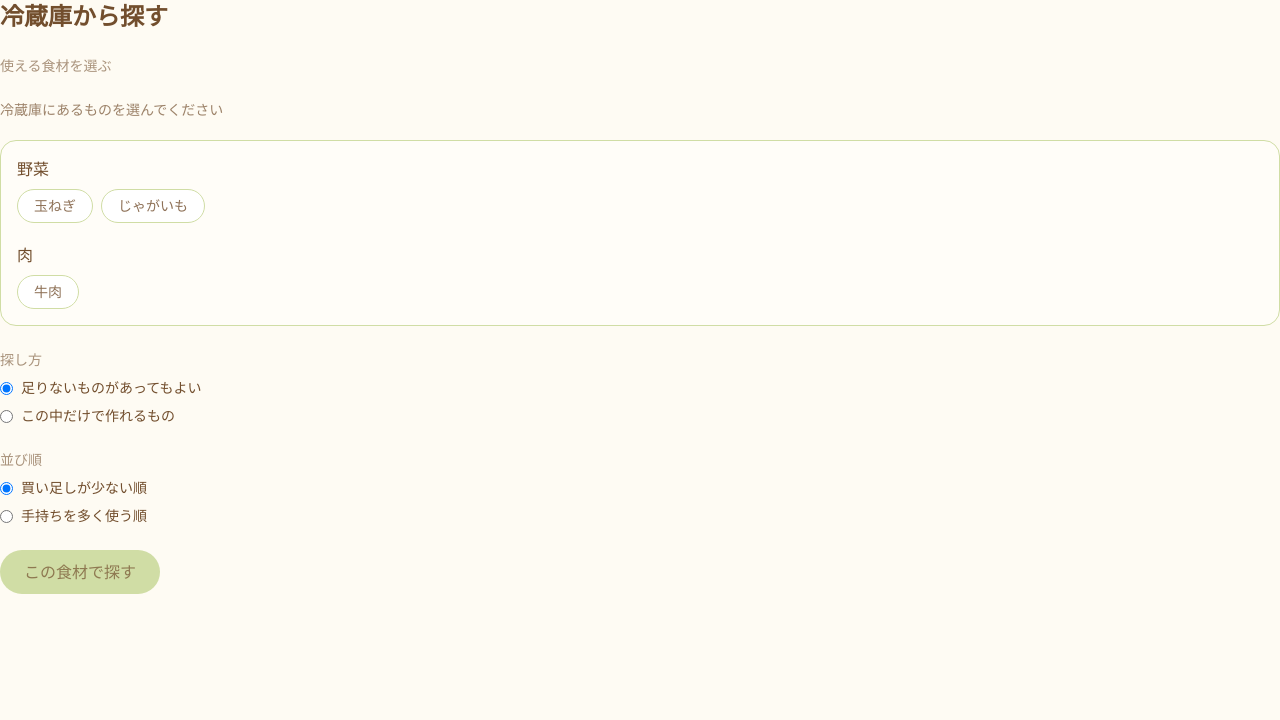
Scenario: 冷蔵庫から探す › 選んだ食材を送り、候補と不足を並べる
Click the checkbox labelled "玉ねぎ": [55, 206] box top-left (17, 189), bottom-right (93, 223)
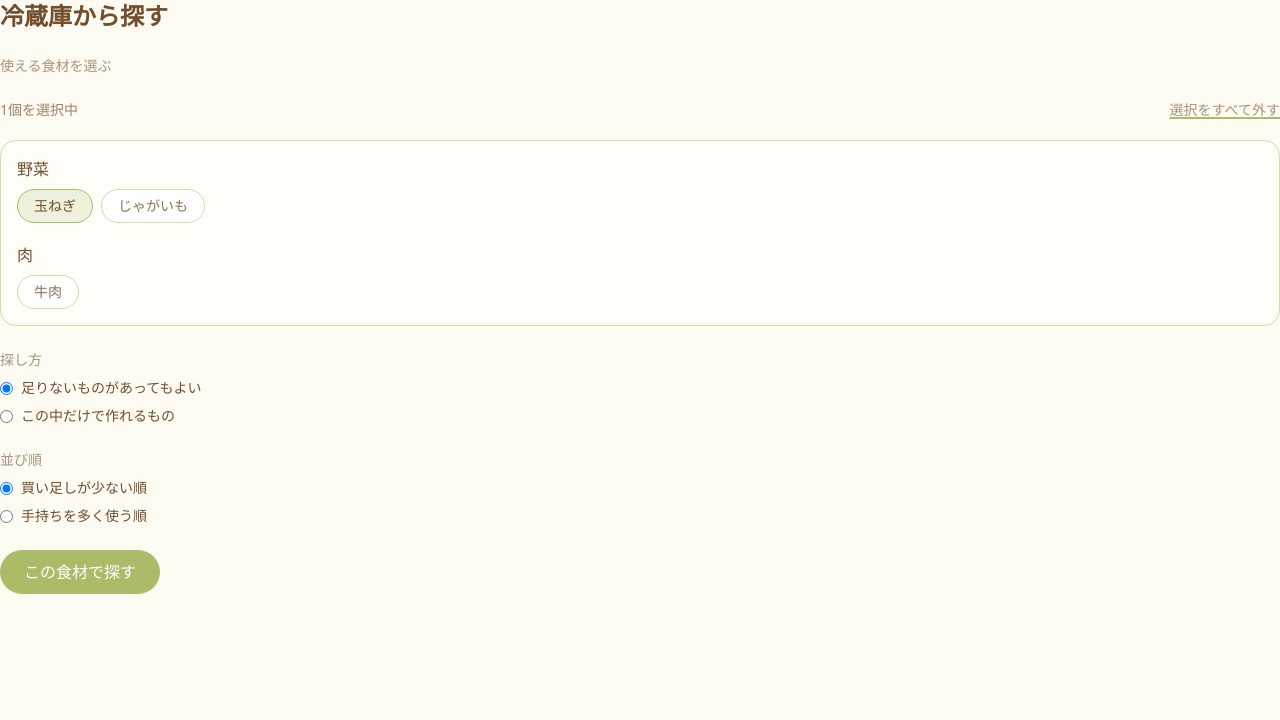
Click the checkbox labelled "じゃがいも": [153, 206] box top-left (101, 189), bottom-right (205, 223)
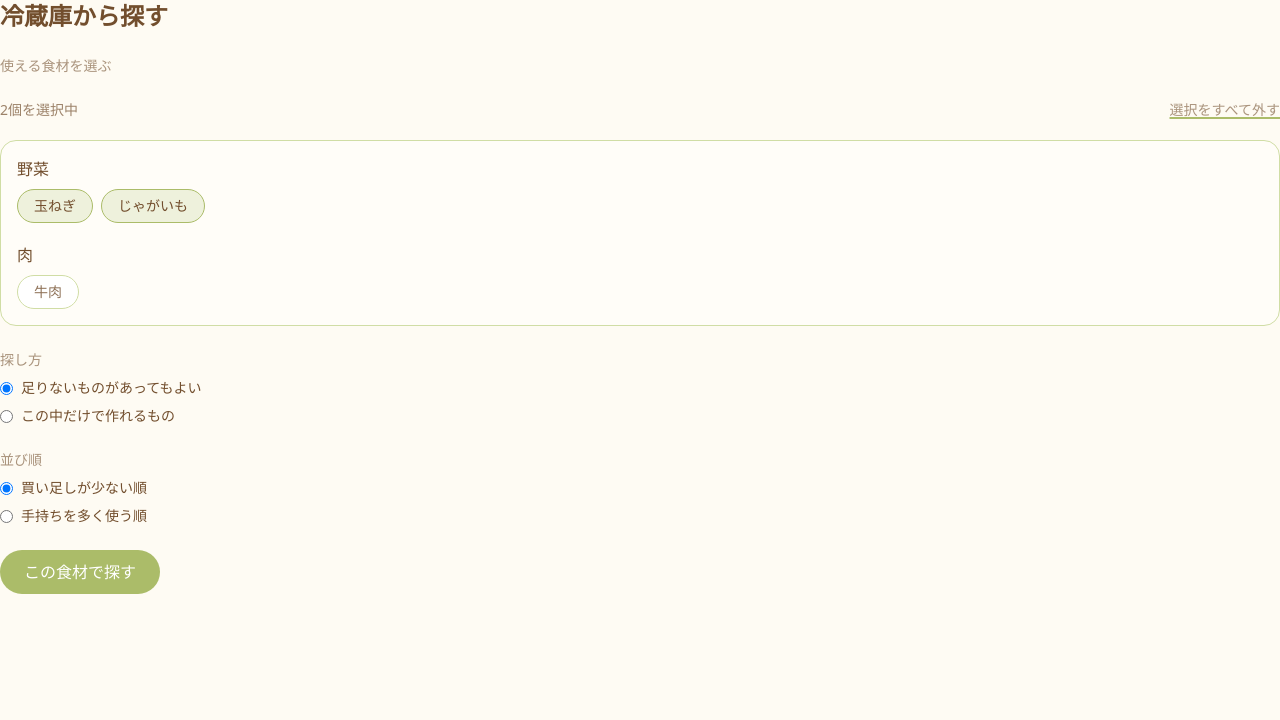
Click the button "この食材で探す": [80, 572] box top-left (0, 550), bottom-right (160, 594)
(page scrolled)
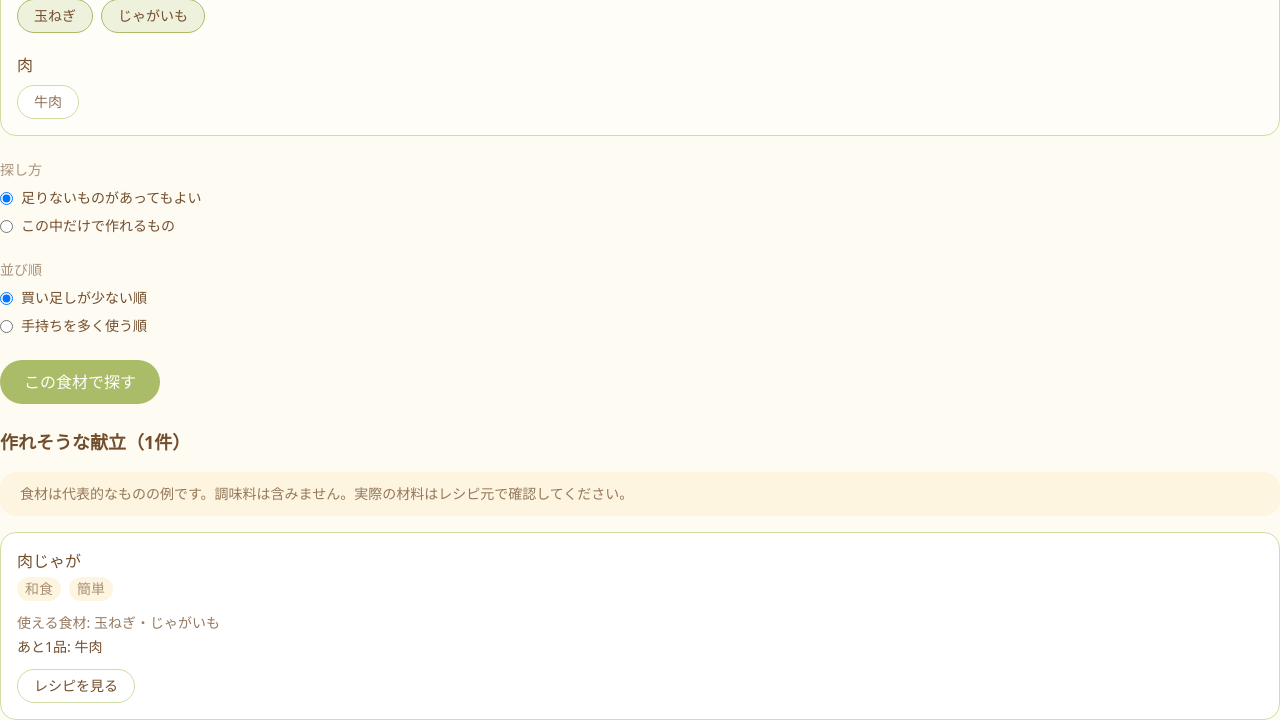
Check: the text "使える食材: 玉ねぎ・じゃがいも" is shown, box top-left (17, 613), bottom-right (220, 632)
Check: the text "あと1品: 牛肉" is shown, box top-left (17, 637), bottom-right (102, 656)
